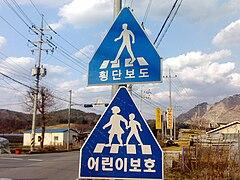Pedestrian Crossing: (64, 6, 172, 89), (70, 97, 173, 180)
